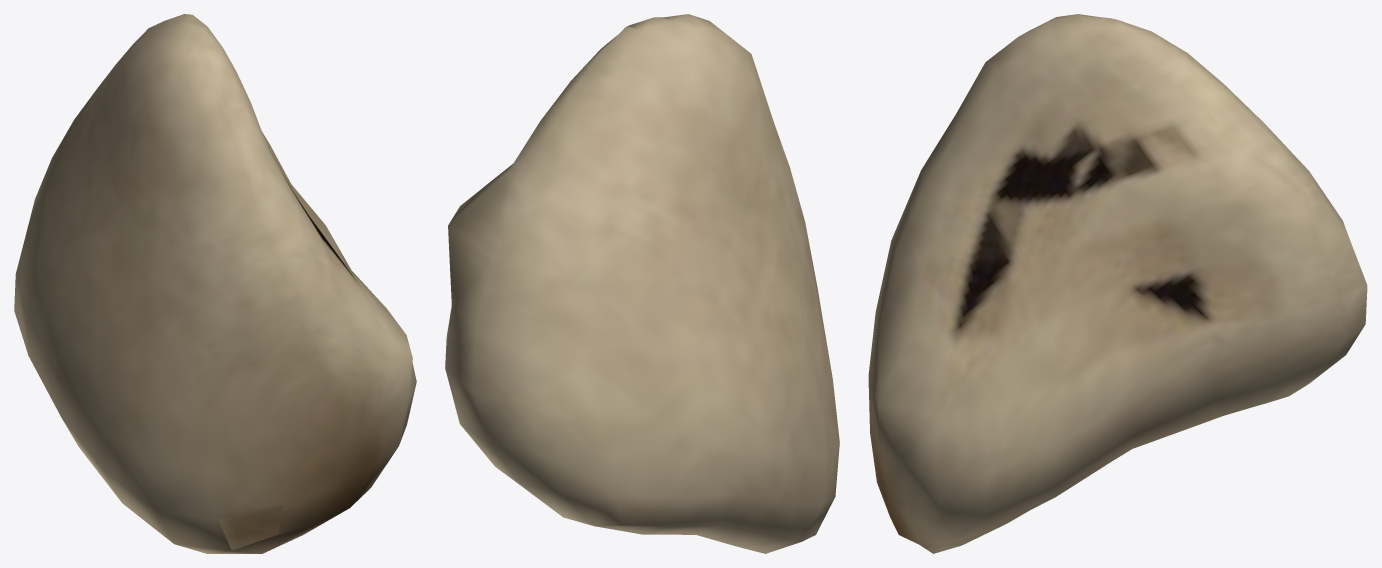
File: Maxilary_Molar5.glb
The picture shows the model from 3 angles, left to right: view 1: azimuth 30°, elevation 25°; view 2: azimuth 150°, elevation 25°; view 3: azimuth 270°, elevation 25°; orthographic projection. The views are drawn at different scales.
Visible parts, largest first — view 1: Molar9; view 2: Molar9; view 3: Molar9.
Boxes of the visible parts, box(x1,y1,x2,y2) form: Molar9: box(14, 14, 416, 553); Molar9: box(445, 14, 839, 553); Molar9: box(868, 14, 1367, 553).
Bounding box in the file's own units: 0.017 × 0.0267 × 0.0231.
1 material, 1 textured.
